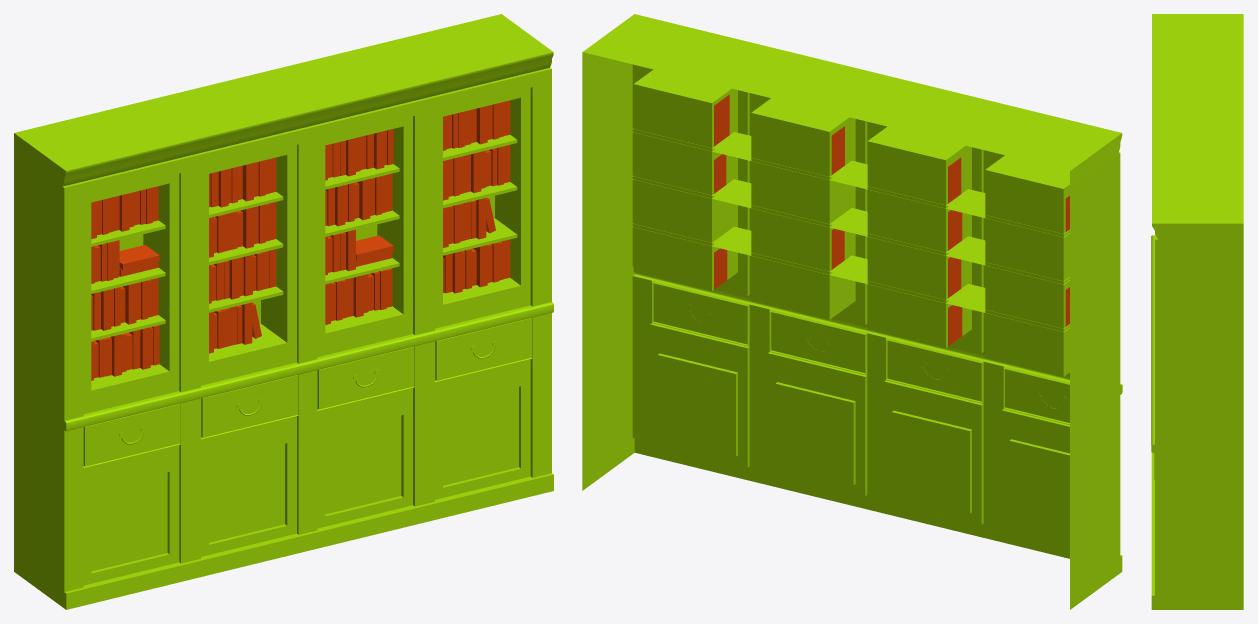
Rendered from standalone bookshelf.fbx.
The picture shows the model from 3 angles, left to right: view 1: azimuth 30°, elevation 25°; view 2: azimuth 150°, elevation 25°; view 3: azimuth 270°, elevation 25°; orthographic projection. The views are drawn at different scales.
Visible parts, largest first — view 1: book_group_4_7_book2; view 2: book_group_4_7_book2; view 3: book_group_4_7_book2.
Part boxes in pixels (x1,y1,x2,y2): book_group_4_7_book2: (14, 14, 553, 609); book_group_4_7_book2: (582, 14, 1122, 609); book_group_4_7_book2: (1151, 14, 1243, 609).
Size of the model in its own units: 318 by 273 by 59.08.
